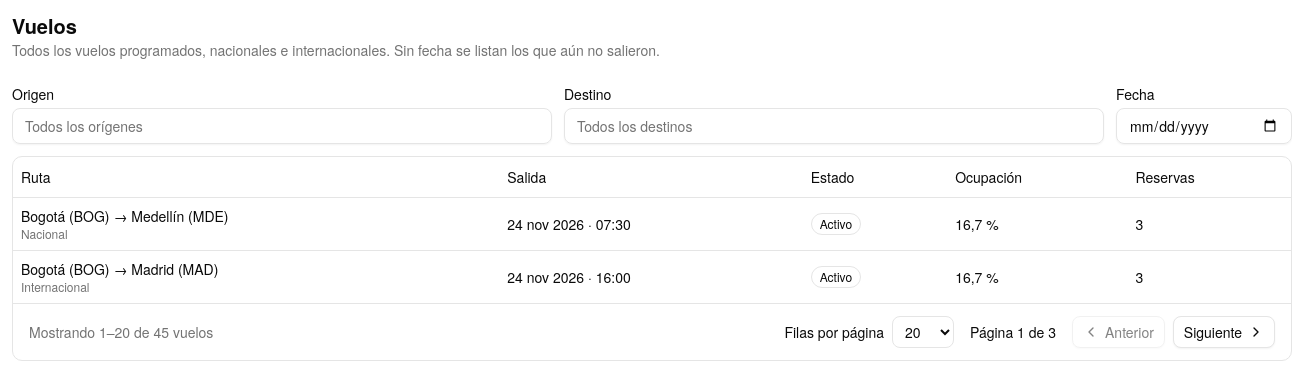
Test: sección Vuelos › pagina: el pie muestra el rango y las páginas, y Siguiente pide la página 2
Expected: the text "Mostrando 1–20 de 45 vuelos" is shown, [29,322,213,342]
Expected: the text "Página 1 de 3" is shown, [970,322,1056,342]
Click the button "Siguiente".
click(1224, 332)  # box [1173,316,1275,348]
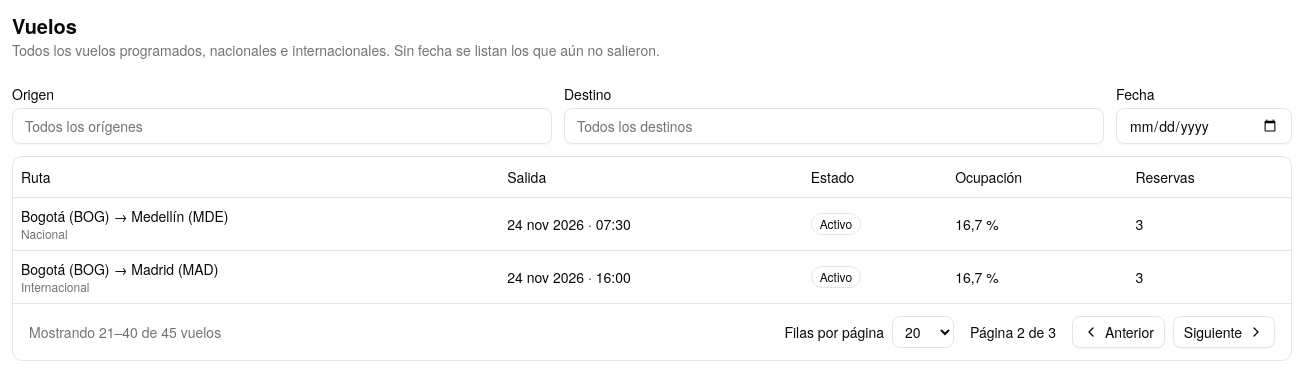
Result: the text "Mostrando 21–40 de 45 vuelos" is shown at [29,322,221,342]
Result: the button "Anterior" is enabled at [1072,316,1165,348]
